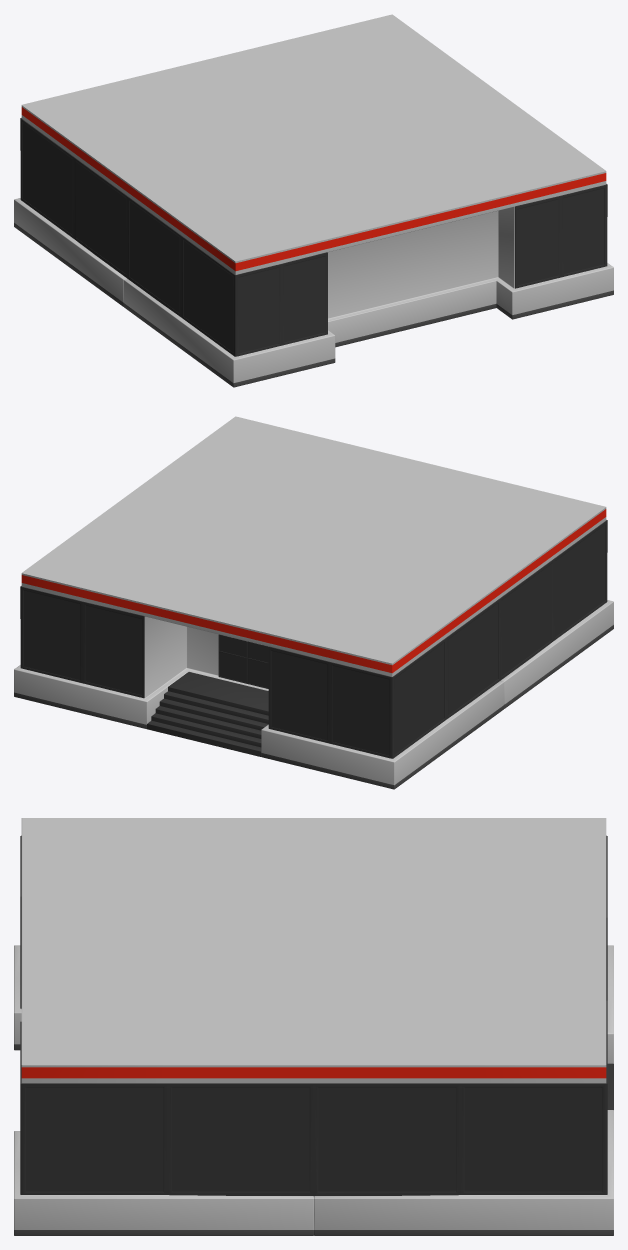
The model's file is SM_Building_FL_01.fbx.
The picture shows the model from 3 angles, top to bottom: view 1: azimuth 30°, elevation 25°; view 2: azimuth 150°, elevation 25°; view 3: azimuth 270°, elevation 25°; orthographic projection. The views are drawn at different scales.
Visible parts, largest first — view 1: SM_Building_FL_01; view 2: SM_Building_FL_01; view 3: SM_Building_FL_01.
Part boxes in pixels (x1,y1,x2,y2): SM_Building_FL_01: [14, 14, 613, 387]; SM_Building_FL_01: [14, 416, 613, 789]; SM_Building_FL_01: [14, 818, 613, 1235].
Bounding box in the file's own units: 1847 × 570 × 1847.
